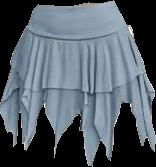Hemline: (0, 92, 155, 166), (9, 62, 146, 94)
Waistline: (26, 26, 126, 39), (37, 0, 114, 7)
